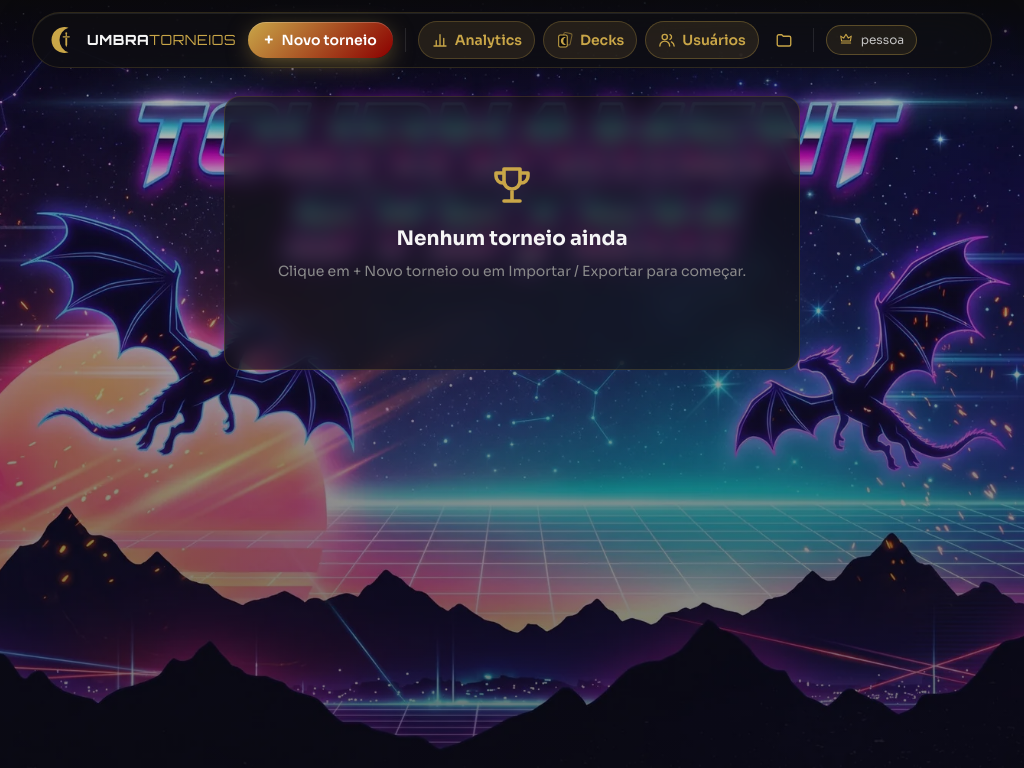
Scenario: barra da lista de torneios › o menu fecha ao clicar fora, com Esc e ao escolher um item
Click the button named "Importar / Exportar" at (784, 40), box [767,23,801,57]
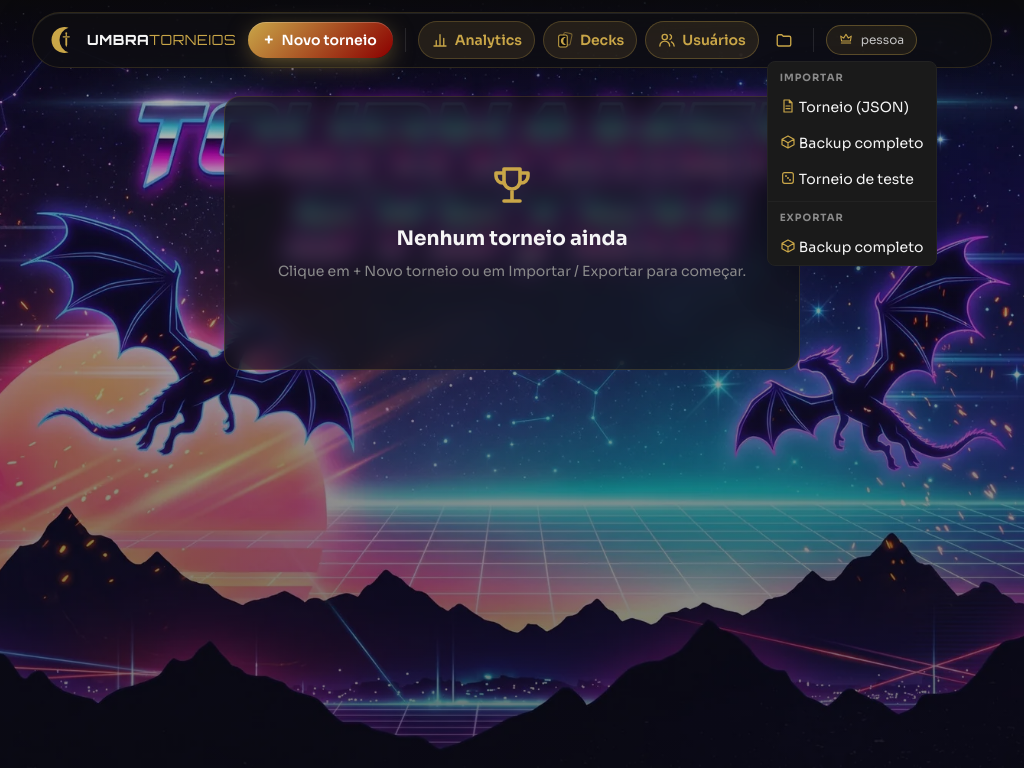
Press the mouse on the element that starts with "UMBRA" at (512, 384), box [0,0,1023,767]
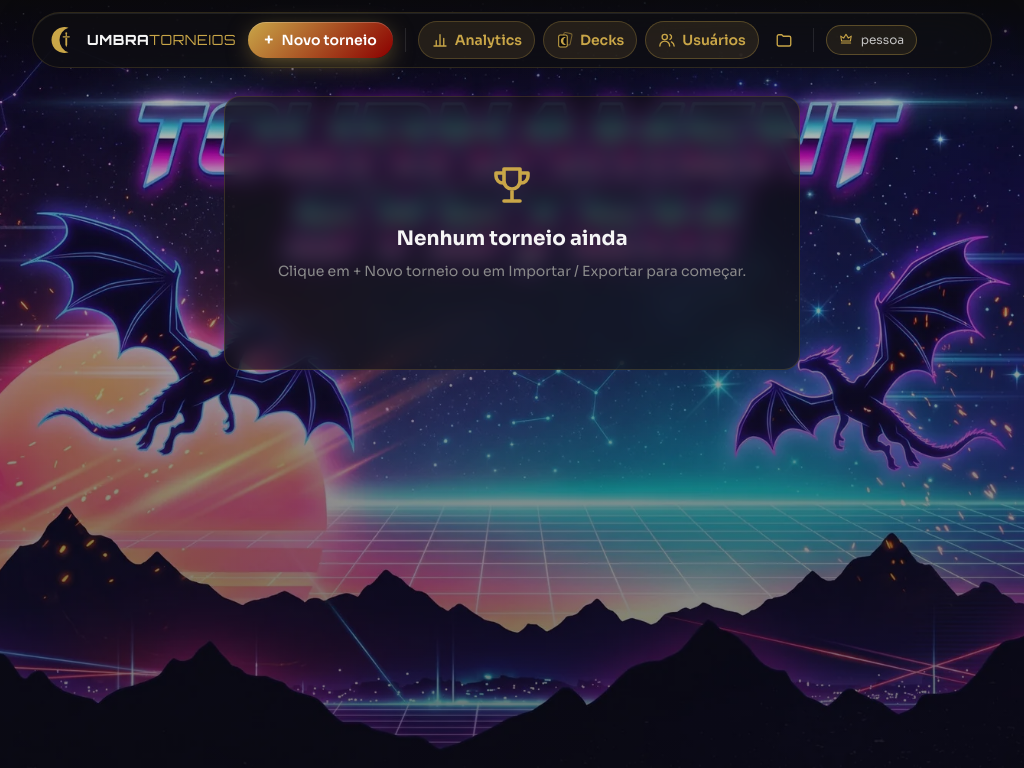
Result: the menu is gone
Click the button named "Importar / Exportar" at (784, 40), box [767,23,801,57]
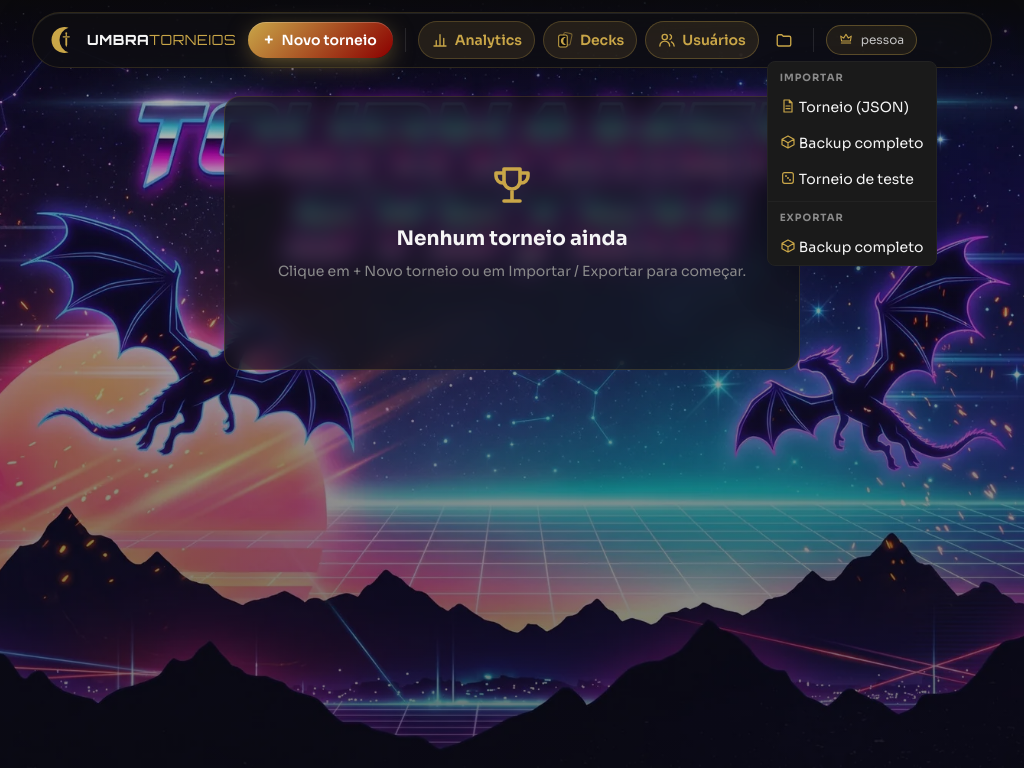
Press Escape
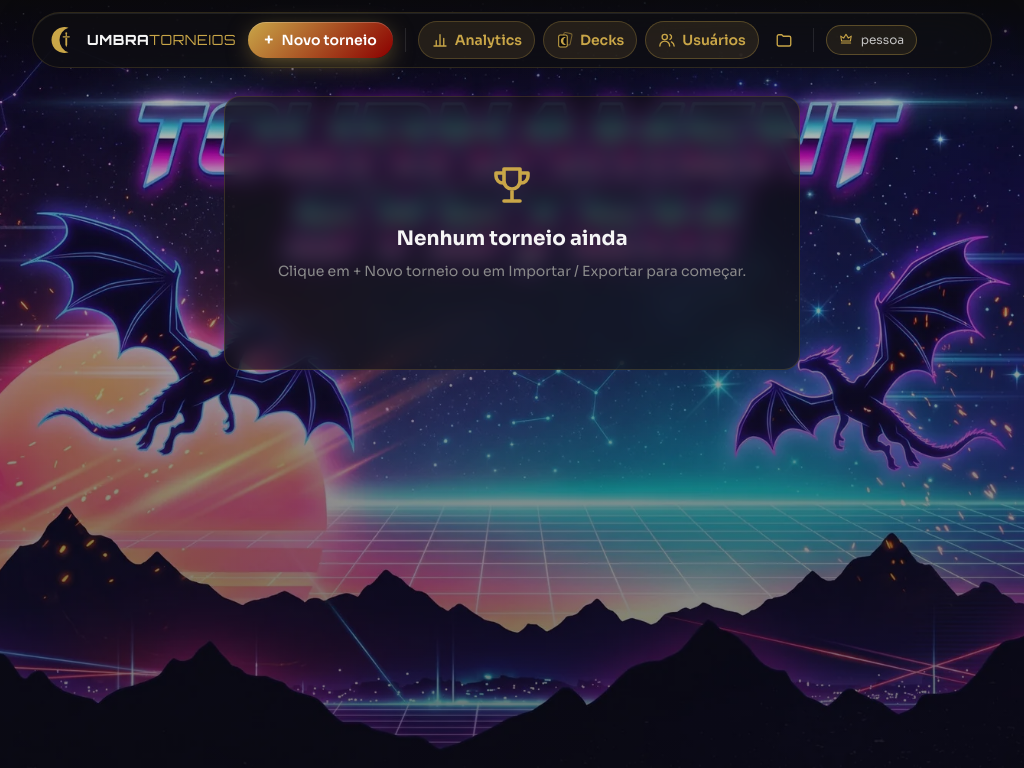
Result: the menu is gone
Click the button named "Importar / Exportar" at (784, 40), box [767,23,801,57]
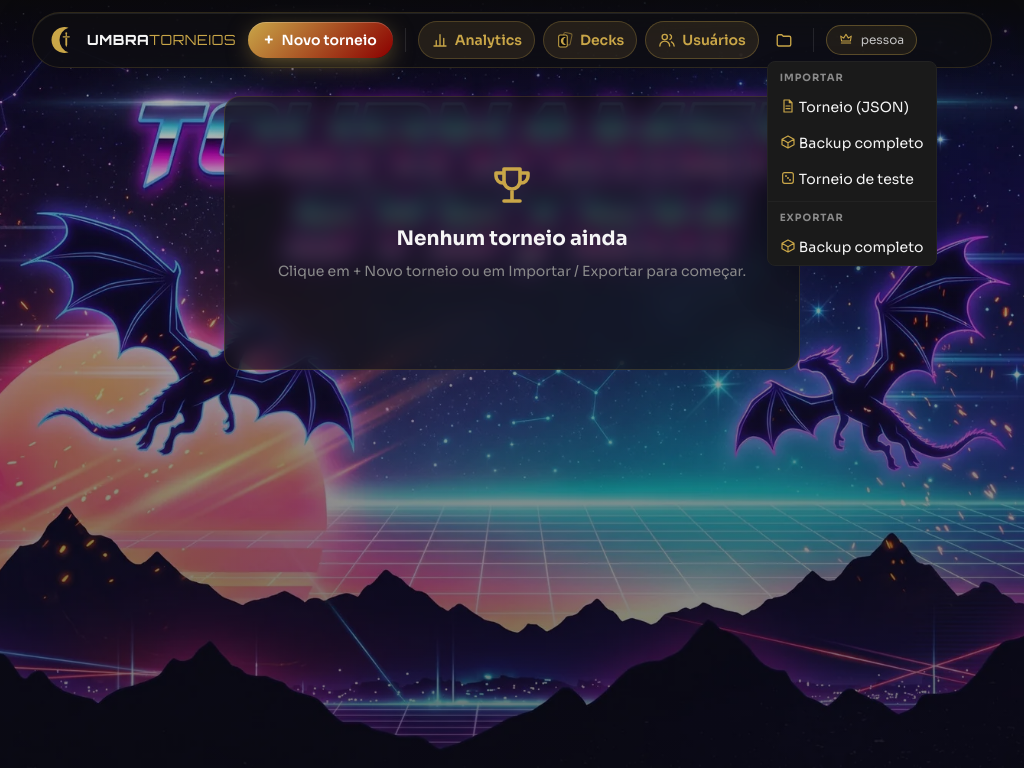
Click the menu item "Torneio (JSON)" at (852, 107), box [768,89,936,125]
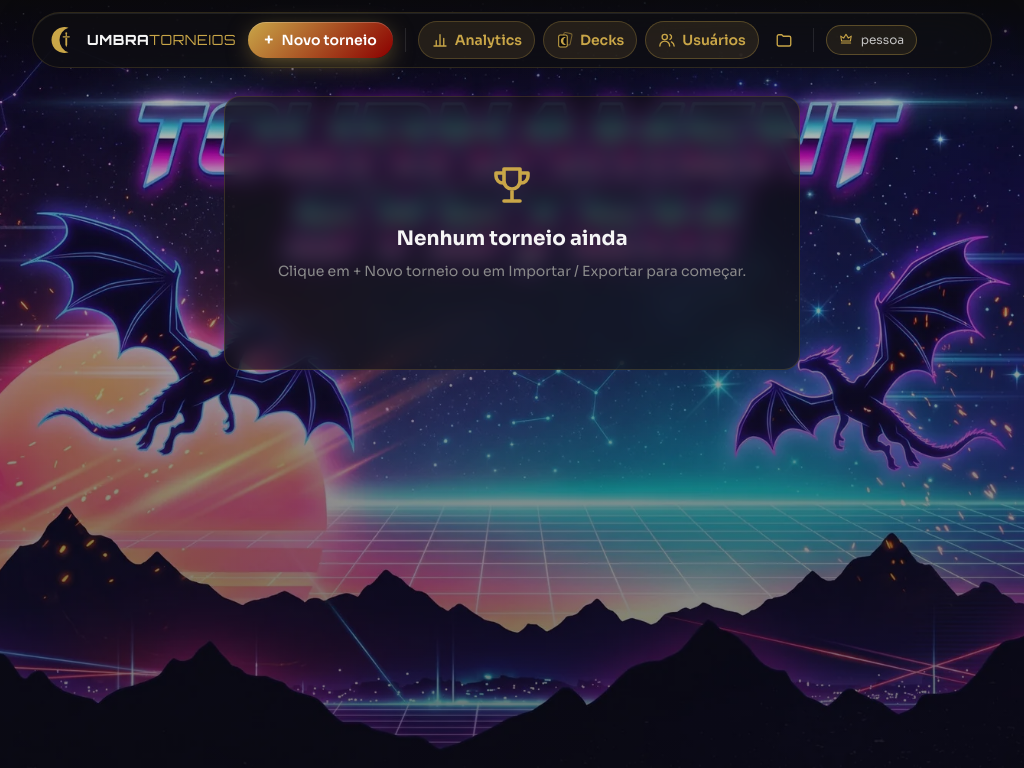
Result: the menu is gone
